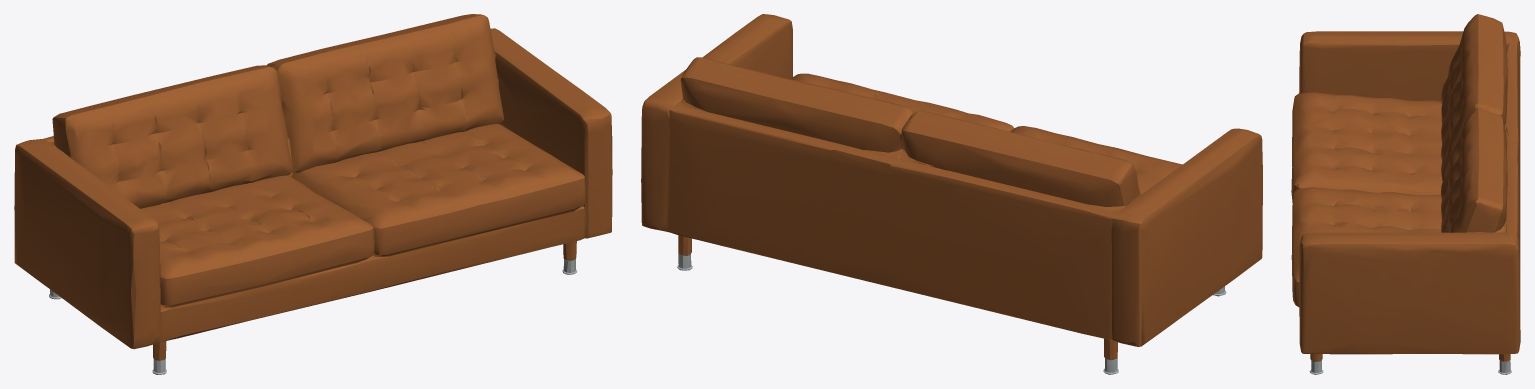
The model's file is 02 - LANDSKRONA - 三人座沙發，GrannBomstad 金棕色金屬 IKEA 線上購物.glb.
3 views of the same model, side by side, from view 1: azimuth 30°, elevation 25°; view 2: azimuth 150°, elevation 25°; view 3: azimuth 270°, elevation 25° (orthographic). The views are drawn at different scales.
Visible parts, largest first — view 1: ProcessedMeshNode; view 2: ProcessedMeshNode; view 3: ProcessedMeshNode.
Boxes of the visible parts, box(x1,y1,x2,y2) form: ProcessedMeshNode: box(14, 14, 612, 374); ProcessedMeshNode: box(641, 14, 1262, 374); ProcessedMeshNode: box(1291, 14, 1520, 374).
Bounding box in the file's own units: 2.06 × 0.7835 × 0.9225.
Materials: 1 (1 with a texture image).
